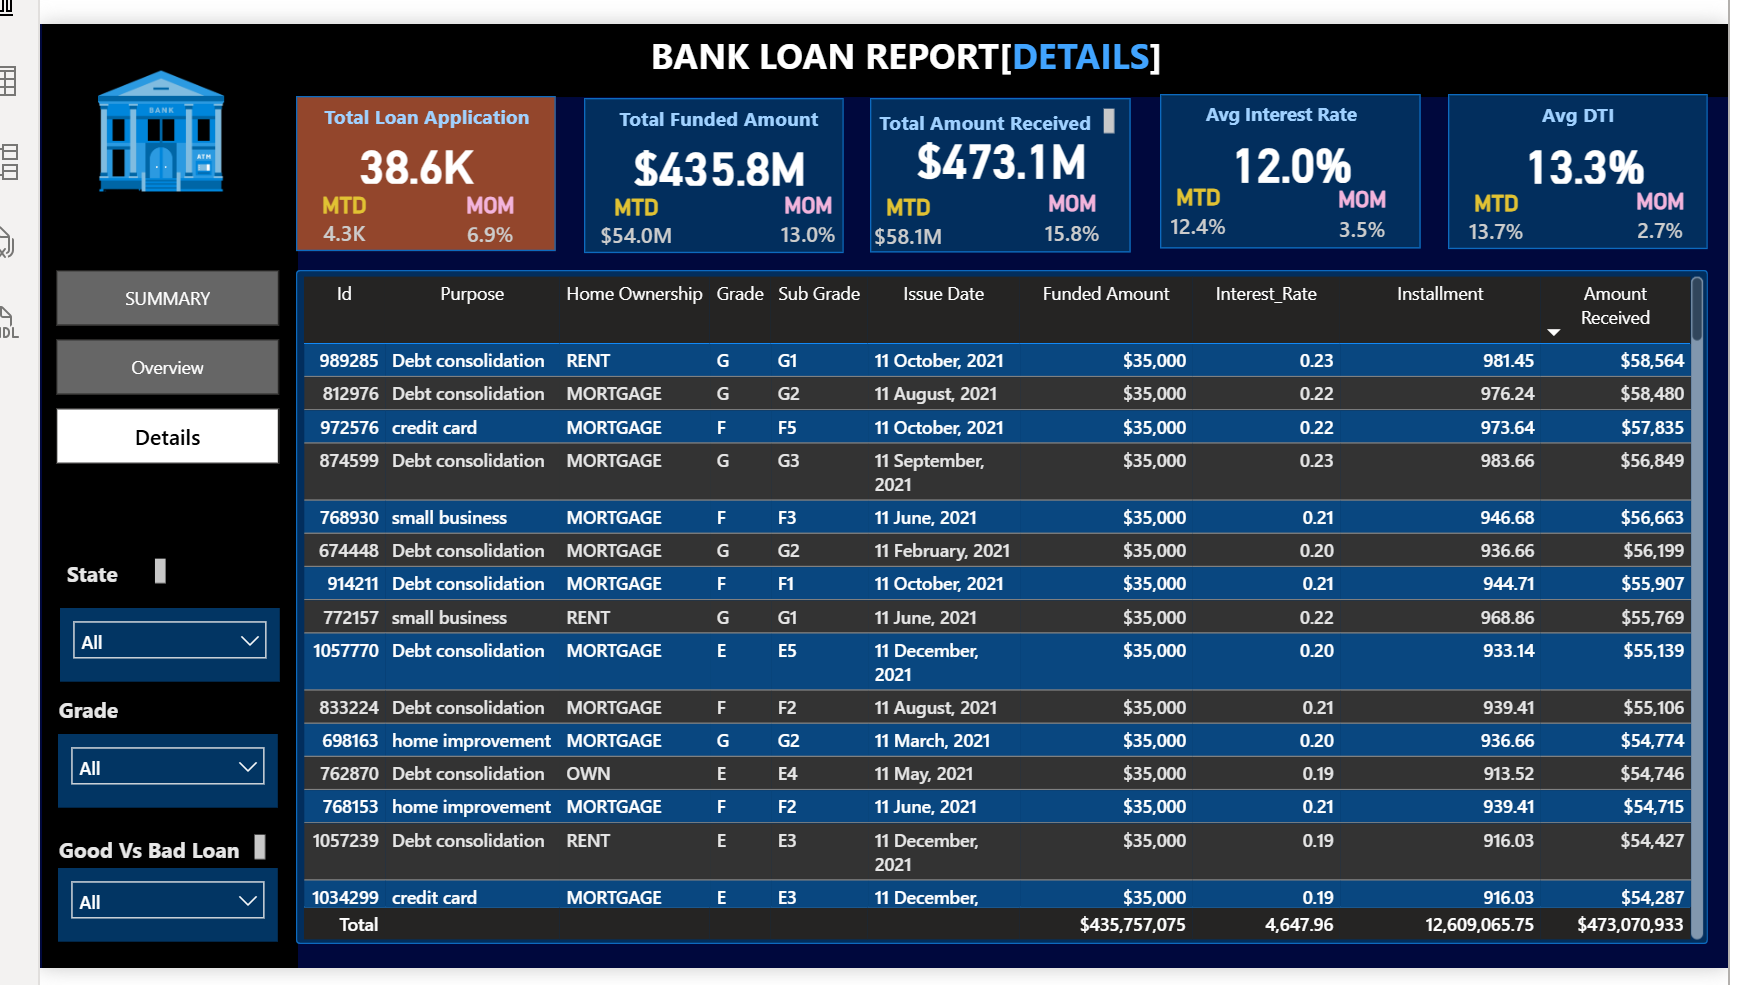

The page's visual inventory and layout, read from the dashboard file:
{"tool":"powerbi","page":{"name":"Details","canvas":[1271,711],"ordinal":2},"visuals":[{"type":"shape","box":[9.5,0,1270.5,55],"z":0},{"type":"shape","box":[1.5,0,192.8,746.9],"z":1000},{"type":"shape","box":[192.6,54.6,195.6,116.8],"z":2000},{"type":"textbox","box":[455,0,447.4,50],"z":3000},{"type":"card","fields":{"Values":["bank_loan_data.Total Loan Applications"]},"box":[227.5,84.9,112.2,40.9],"z":4000},{"type":"textbox","box":[192.6,54.6,197.2,30.3],"z":5000},{"type":"card","title":"MTD","fields":{"Values":["bank_loan_data.MTD Loan Applications"]},"box":[192.6,125.9,72.8,45.5],"z":6000},{"type":"card","title":"MOM","fields":{"Values":["bank_loan_data.MOM Loan Applications"]},"box":[303.3,125.9,72.8,44],"z":7000},{"type":"shape","box":[409.1,56.1,195.6,116.8],"z":8000},{"type":"card","fields":{"Values":["bank_loan_data.Total Funded Amount"]},"box":[441.3,86.4,141,40.9],"z":9000},{"type":"textbox","box":[412.5,56.1,197.2,30.3],"z":10000},{"type":"card","title":"MTD","fields":{"Values":["bank_loan_data.MTD Funded Applications Amount"]},"box":[412.5,127.4,72.8,45.5],"z":11000},{"type":"card","title":"MOM","fields":{"Values":["bank_loan_data.MOM Total Funded Amount"]},"box":[541.4,125.9,72.8,44],"z":12000},{"type":"shape","box":[625.6,55.3,196.3,116.3],"z":13000},{"type":"textbox","box":[618,58.2,196.3,29.1],"z":14000},{"type":"card","title":"MTD","fields":{"Values":["bank_loan_data.MTD Total Amount Received"]},"box":[618,128,72.7,45.1],"z":15000},{"type":"card","title":"MOM","fields":{"Values":["bank_loan_data.MOM Total Amount Recevied"]},"box":[741.6,125,72.7,43.6],"z":16000},{"type":"shape","box":[842.7,52.3,196.3,116.3],"z":17000},{"type":"card","fields":{"Values":["bank_loan_data.Avg Interest Rate"]},"box":[872.4,82.9,141,42.2],"z":18000},{"type":"textbox","title":"Avg Interest Rate","box":[836.1,52.3,197.7,29.1],"z":19000},{"type":"card","title":"MTD","fields":{"Values":["bank_loan_data.MTD Avg Interest Rate"]},"box":[836.1,120.7,72.7,45.1],"z":20000},{"type":"card","title":"MOM","fields":{"Values":["bank_loan_data.MOM Avg Interest Rate"]},"box":[959.7,122.1,72.7,43.6],"z":21000},{"type":"card","fields":{"Values":["bank_loan_data.Total Amount Received"]},"box":[654.3,80,141,42.2],"z":22000},{"type":"shape","box":[1059.9,52.4,195.6,116.8],"z":23000},{"type":"card","fields":{"Values":["bank_loan_data.Avg DTI"]},"box":[1107.5,83.9,112.3,41.1],"z":24000},{"type":"textbox","box":[1060.1,52.2,196.2,30.1],"z":25000},{"type":"card","title":"MTD","fields":{"Values":["bank_loan_data.MTD Avg DTI"]},"box":[1060.1,125,72.8,45.9],"z":26000},{"type":"card","title":"MOM","fields":{"Values":["bank_loan_data.MOM Avg DTI"]},"box":[1183.5,123.4,72.8,44.3],"z":27000},{"type":"shape","box":[192.8,185.2,1063.2,507.5],"z":28000},{"type":"slicer","fields":{"Values":["bank_loan_data.address_state"]},"box":[15.1,439.7,165.7,55.7],"z":29000},{"type":"textbox","box":[15.1,397.6,84.3,30.1],"z":30000},{"type":"slicer","fields":{"Values":["bank_loan_data.grade"]},"box":[13.6,534.6,165.7,55.7],"z":31000},{"type":"textbox","box":[9,500,87.3,34.6],"z":32000},{"type":"slicer","fields":{"Values":["bank_loan_data.purpose"]},"box":[13.6,635.5,165.7,55.7],"z":33000},{"type":"textbox","box":[9,605.4,165.7,30.1],"z":34000},{"type":"tableEx","fields":{"Values":["bank_loan_data.id","bank_loan_data.purpose","bank_loan_data.home_ownership","bank_loan_data.grade","bank_loan_data.sub_grade","bank_loan_data.issue_date","bank_loan_data.Total Funded Amount","Sum(bank_loan_data.int_rate)","Sum(bank_loan_data.installment)","bank_loan_data.Total Amount Received"]},"box":[192.8,185.2,1064.7,509],"z":37000},{"type":"pageNavigator","box":[12,185.2,168.7,146.1],"z":37001},{"type":"image","box":[43.7,27.1,94.9,106.9],"z":37002}]}

Visuals, with their boxes on the page's 1271x711 design canvas (x1, y1, x2, y2). These are canvas units, not pixel positions in the 1739x985 screenshot, which may show the page scaled, cropped or inside an application window:
shape: x1=10 y1=0 x2=1280 y2=55
shape: x1=2 y1=0 x2=194 y2=747
shape: x1=193 y1=55 x2=388 y2=171
textbox: x1=455 y1=0 x2=902 y2=50
card - bank_loan_data.Total Loan Applications: x1=228 y1=85 x2=340 y2=126
textbox: x1=193 y1=55 x2=390 y2=85
"MTD" card: x1=193 y1=126 x2=265 y2=171
"MOM" card: x1=303 y1=126 x2=376 y2=170
shape: x1=409 y1=56 x2=605 y2=173
card - bank_loan_data.Total Funded Amount: x1=441 y1=86 x2=582 y2=127
textbox: x1=412 y1=56 x2=610 y2=86
"MTD" card: x1=412 y1=127 x2=485 y2=173
"MOM" card: x1=541 y1=126 x2=614 y2=170
shape: x1=626 y1=55 x2=822 y2=172
textbox: x1=618 y1=58 x2=814 y2=87
"MTD" card: x1=618 y1=128 x2=691 y2=173
"MOM" card: x1=742 y1=125 x2=814 y2=169
shape: x1=843 y1=52 x2=1039 y2=169
card - bank_loan_data.Avg Interest Rate: x1=872 y1=83 x2=1013 y2=125
"Avg Interest Rate" textbox: x1=836 y1=52 x2=1034 y2=81
"MTD" card: x1=836 y1=121 x2=909 y2=166
"MOM" card: x1=960 y1=122 x2=1032 y2=166
card - bank_loan_data.Total Amount Received: x1=654 y1=80 x2=795 y2=122
shape: x1=1060 y1=52 x2=1256 y2=169
card - bank_loan_data.Avg DTI: x1=1108 y1=84 x2=1220 y2=125
textbox: x1=1060 y1=52 x2=1256 y2=82
"MTD" card: x1=1060 y1=125 x2=1133 y2=171
"MOM" card: x1=1184 y1=123 x2=1256 y2=168
shape: x1=193 y1=185 x2=1256 y2=693
slicer - bank_loan_data.address_state: x1=15 y1=440 x2=181 y2=495
textbox: x1=15 y1=398 x2=99 y2=428
slicer - bank_loan_data.grade: x1=14 y1=535 x2=179 y2=590
textbox: x1=9 y1=500 x2=96 y2=535
slicer - bank_loan_data.purpose: x1=14 y1=636 x2=179 y2=691
textbox: x1=9 y1=605 x2=175 y2=636
tableEx - bank_loan_data.id x bank_loan_data.purpose: x1=193 y1=185 x2=1258 y2=694
pageNavigator: x1=12 y1=185 x2=181 y2=331
image: x1=44 y1=27 x2=139 y2=134
